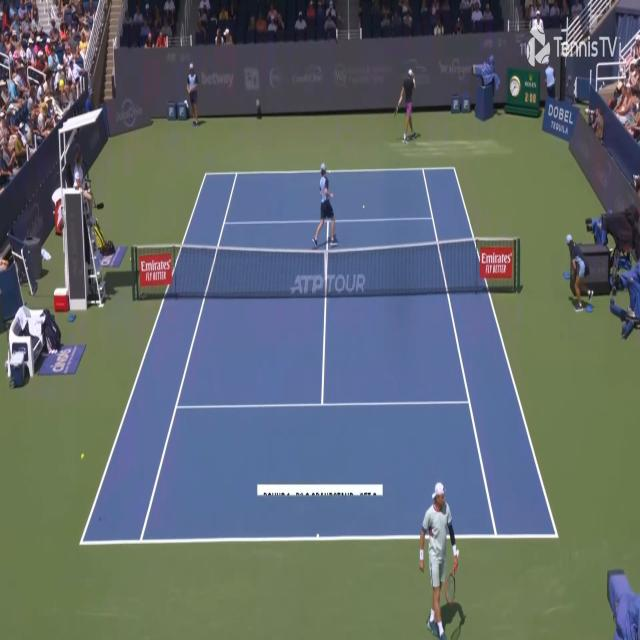tennis-player: (418, 478, 466, 640), (393, 66, 421, 143)
